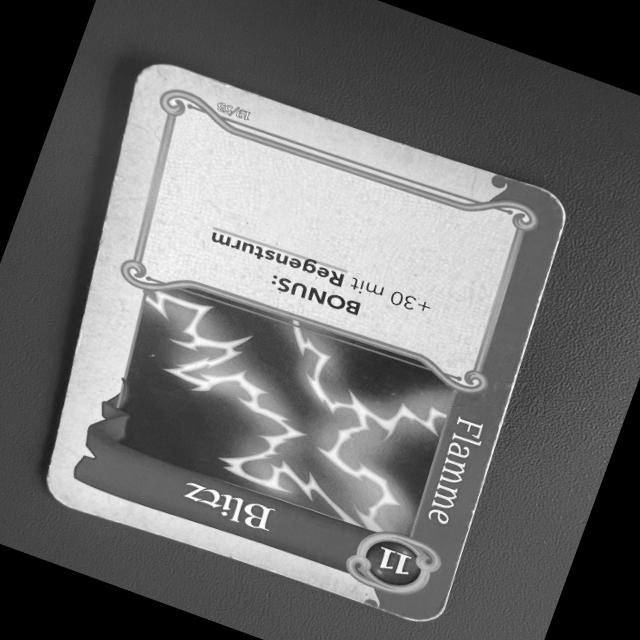Lightning: (46, 60, 574, 628)
